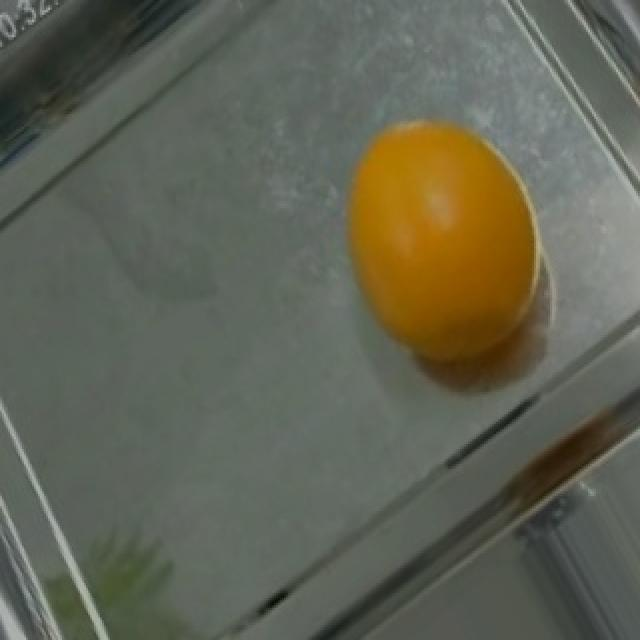Fruit: (326, 94, 566, 434)
